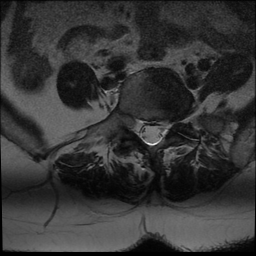CCS_normal: (149, 115, 158, 150)
LFS_severe_stenosis: (169, 112, 179, 139)
LLS_normal: (159, 114, 168, 143)
RFS_normal: (130, 108, 140, 142)
RLS_normal: (141, 115, 149, 147)
